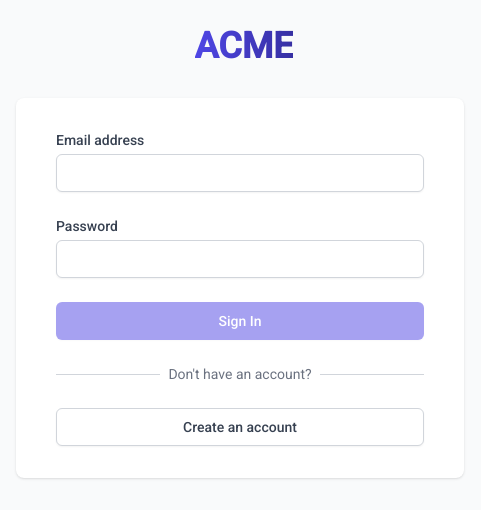
it: Sign In › Form Validation › should validate invalid email format
In the field named "email": [240, 173] box [56,154,424,192], type "invalid-email"
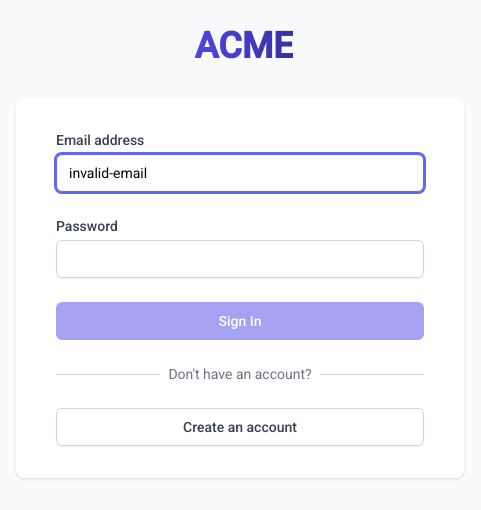
Leave the field named "email", box [56,154,424,192]
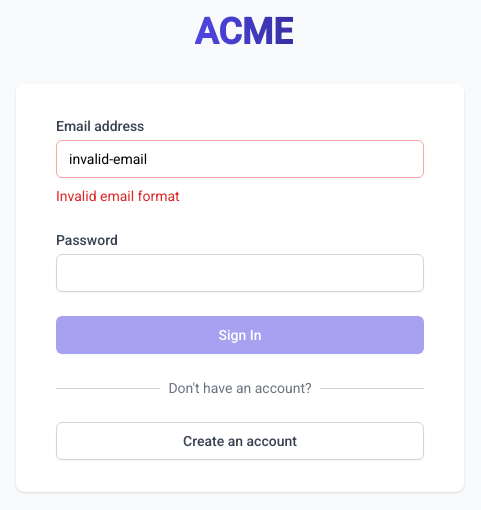
Expected: the text "Invalid email format" is shown, [56,188,180,204]
